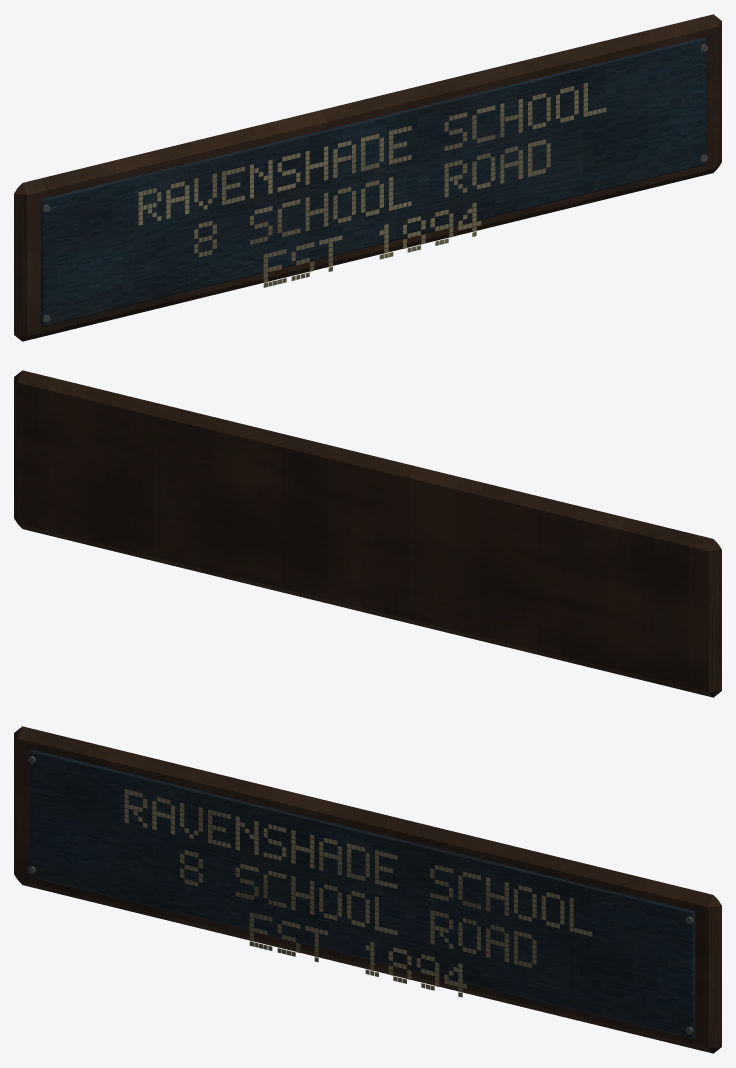
The model's file is level_sign_school_worn.glb.
3 views of the same model, one above another, from view 1: azimuth 30°, elevation 25°; view 2: azimuth 150°, elevation 25°; view 3: azimuth 330°, elevation 25° (orthographic).
Visible parts, largest first — view 1: level_sign_school_worn; view 2: level_sign_school_worn; view 3: level_sign_school_worn.
Part boxes in pixels (x1=…): level_sign_school_worn: x1=14, y1=14, x2=721, y2=341; level_sign_school_worn: x1=14, y1=370, x2=721, y2=697; level_sign_school_worn: x1=14, y1=726, x2=721, y2=1053.
Bounding box in the file's own units: 1.68 × 0.36 × 0.053.
4 materials, 4 textured.
